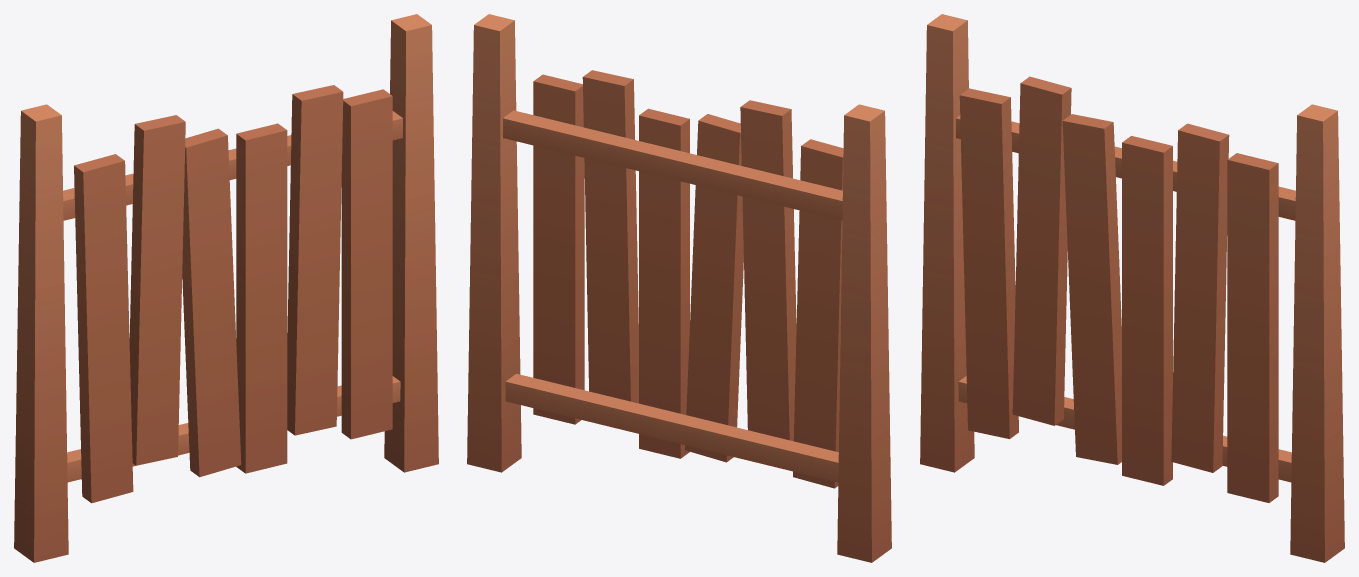
The model's file is fence-fortified.glb.
3 renders of one model, left to right at view 1: azimuth 30°, elevation 25°; view 2: azimuth 150°, elevation 25°; view 3: azimuth 330°, elevation 25°, orthographic.
Visible parts, largest first — view 1: fence-fortified; view 2: fence-fortified; view 3: fence-fortified.
Part boxes in pixels (x1=…): fence-fortified: x1=14, y1=14, x2=438, y2=562; fence-fortified: x1=467, y1=14, x2=891, y2=562; fence-fortified: x1=920, y1=14, x2=1344, y2=562.
Size of the model in its own units: 0.5 by 0.5175 by 0.053.
1 material, 1 textured.
